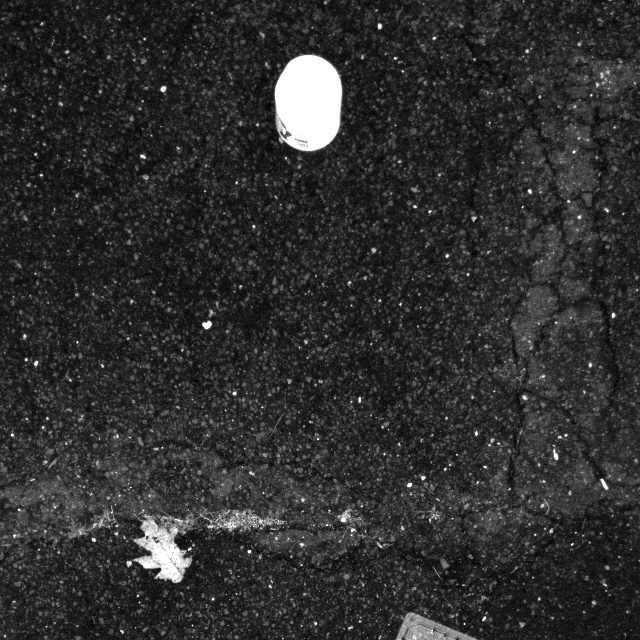can: (261, 48, 350, 160)
